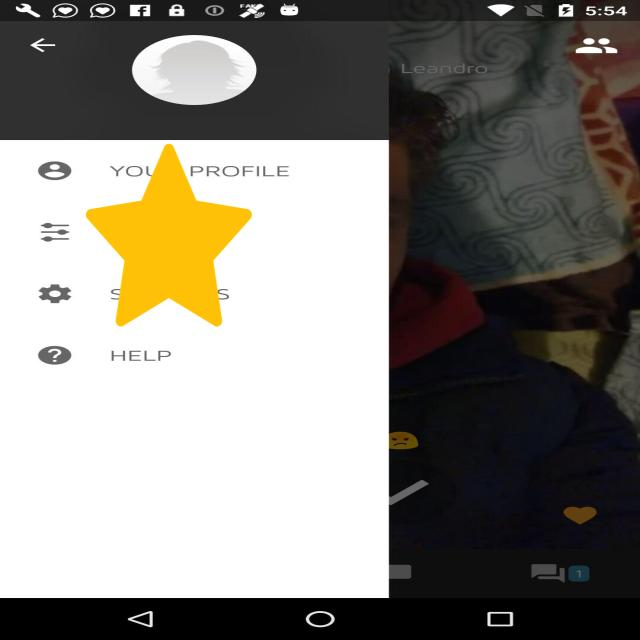forced continuity: (86, 144, 252, 326)
